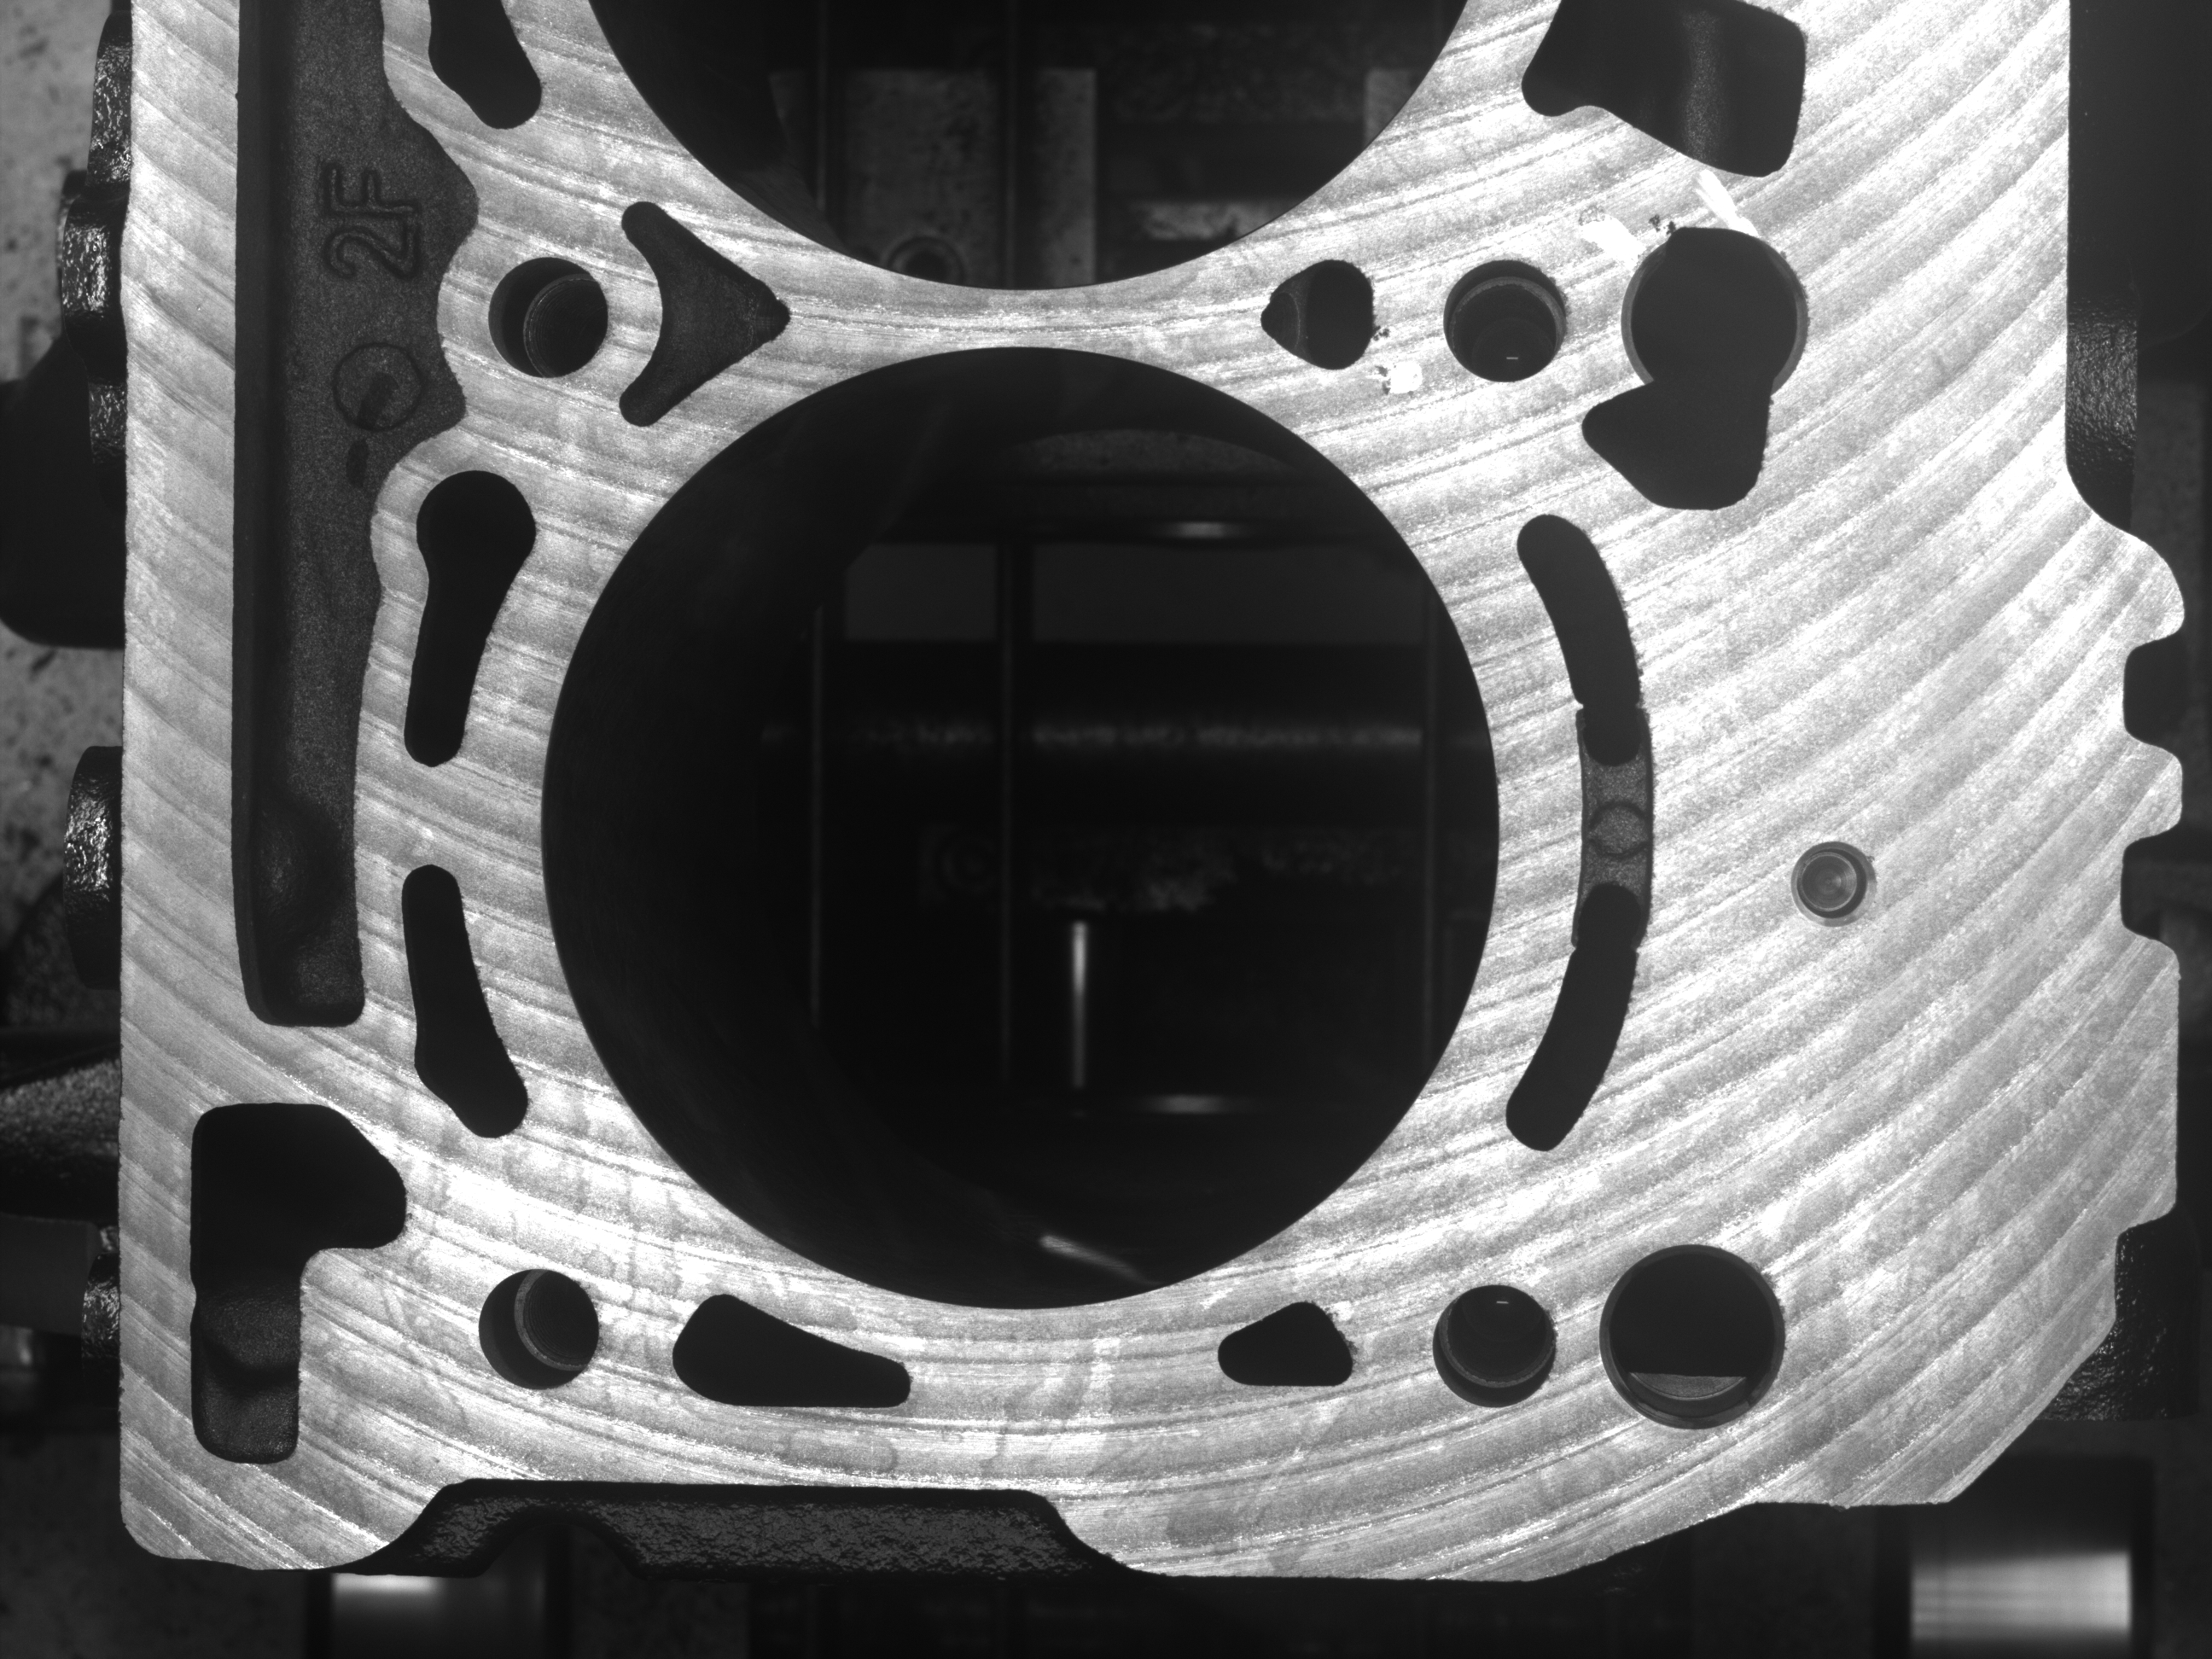shrinkage: (1639, 200, 1681, 237), (1369, 315, 1402, 354)
